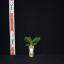leaf: (32, 37, 40, 44), (24, 37, 31, 43), (24, 38, 31, 44), (32, 37, 38, 43), (28, 36, 32, 43), (25, 44, 31, 46), (32, 42, 38, 44), (32, 44, 37, 45)
